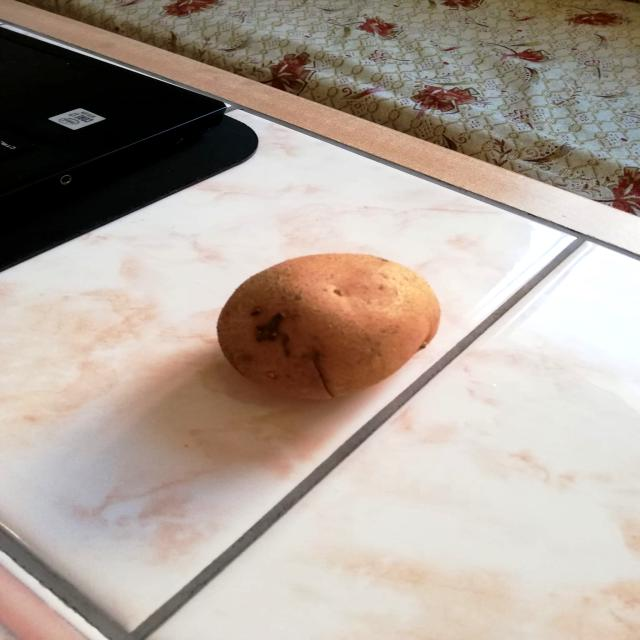potato: (211, 248, 447, 405)
